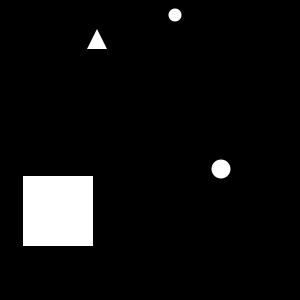circle: (23, 176, 93, 246)
rectangle: (212, 160, 230, 178), (169, 8, 182, 22)
triangle: (87, 29, 107, 49)
